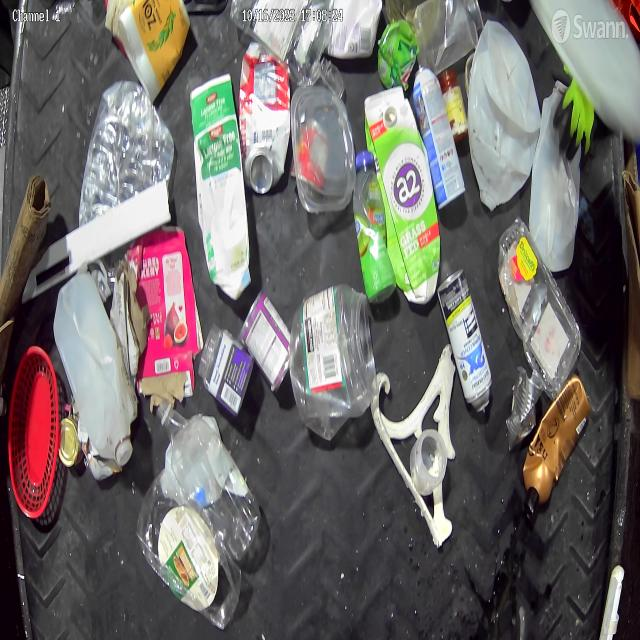can: (441, 266, 493, 411), (238, 36, 284, 182), (242, 292, 292, 383), (506, 366, 534, 446), (56, 412, 80, 469)
milk_jug: (50, 268, 133, 464), (465, 21, 536, 209), (534, 78, 576, 268)
non_white_jug: (376, 91, 441, 296)
plastic_bottle: (129, 470, 238, 617), (158, 393, 255, 549), (85, 82, 172, 208)
